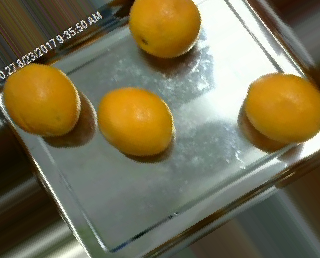Orange: (3, 62, 80, 136), (244, 73, 319, 143), (97, 86, 173, 155), (127, 1, 200, 56)
